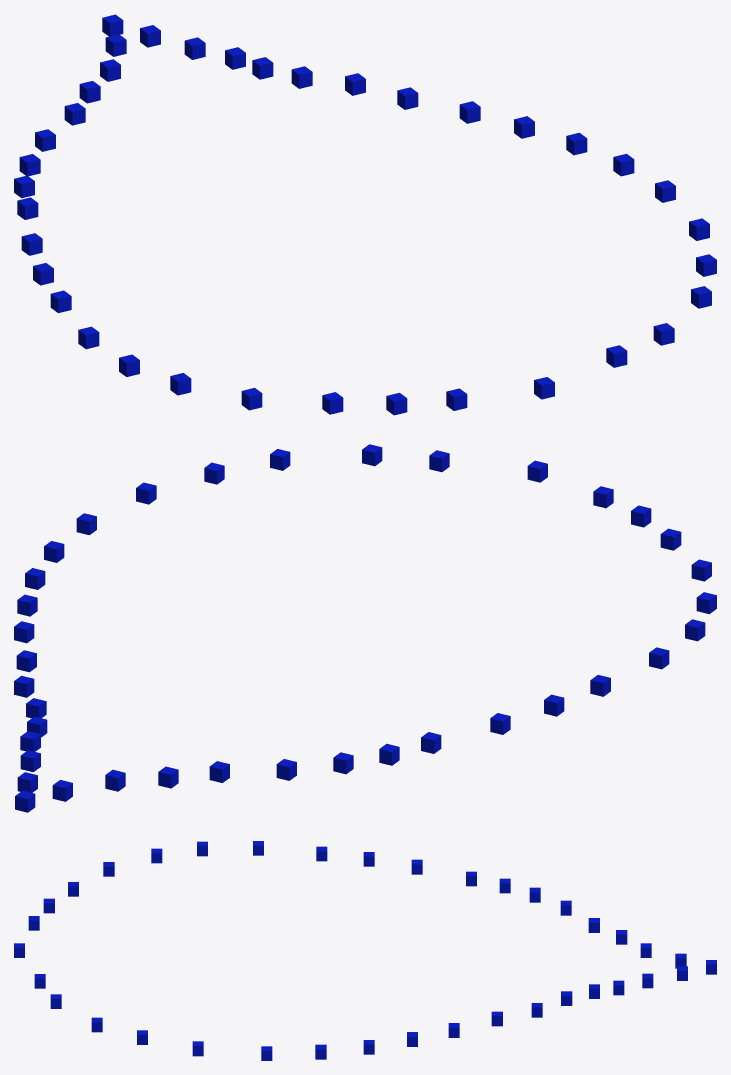
File: myline.dae
3 renders of one model, top to bottom at view 1: azimuth 30°, elevation 25°; view 2: azimuth 150°, elevation 25°; view 3: azimuth 270°, elevation 25°, orthographic. The views are drawn at different scales.
Size of the model in its own units: 17.8 by 25.19 by 0.3974.
